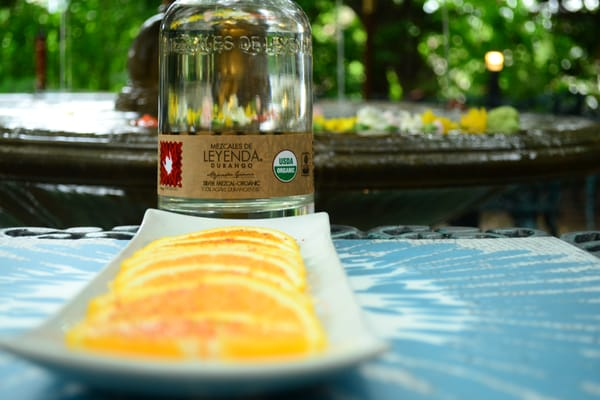burger: (154, 0, 315, 219)
curry: (1, 216, 599, 393)
